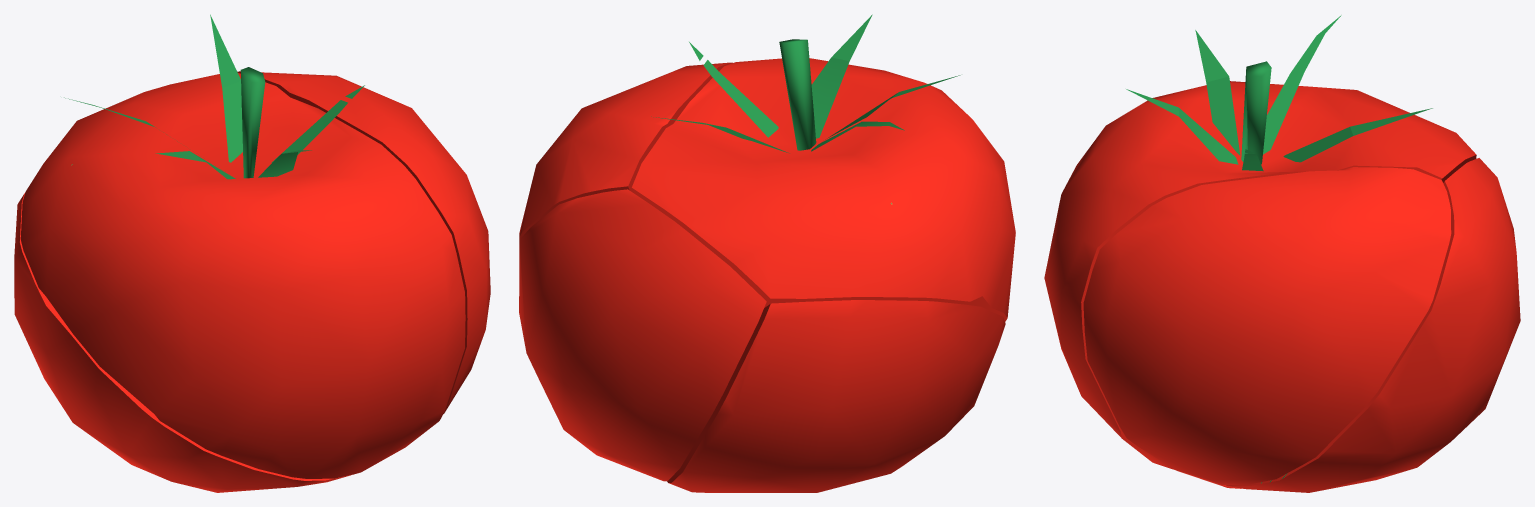
The model's file is testExplode.fbx.
3 renders of one model, left to right at view 1: azimuth 30°, elevation 25°; view 2: azimuth 150°, elevation 25°; view 3: azimuth 270°, elevation 25°, orthographic. The views are drawn at different scales.
Parts seen in each view (by area): view 1: tomato_whole_cell.002, tomato_whole_cell.003, tomato_whole_cell.001, tomato_whole_cell.005, tomato_whole_cell.006; view 2: tomato_whole_cell.002, tomato_whole_cell, tomato_whole_cell.003, tomato_whole_cell.001, tomato_whole_cell.006; view 3: tomato_whole_cell.001, tomato_whole_cell.002, tomato_whole_cell, tomato_whole_cell.005.
Part boxes in pixels (x1,y1,x2,y2): tomato_whole_cell.002: (20,67,465,478); tomato_whole_cell.003: (14,193,350,492); tomato_whole_cell.001: (237,71,490,413); tomato_whole_cell.005: (210,14,242,162); tomato_whole_cell.006: (271,100,347,162); tomato_whole_cell.002: (632,14,1015,321); tomato_whole_cell: (519,189,766,481); tomato_whole_cell.003: (667,300,1005,492); tomato_whole_cell.001: (519,62,732,243); tomato_whole_cell.006: (703,60,778,137); tomato_whole_cell.001: (1083,167,1451,485); tomato_whole_cell.002: (1044,15,1476,471); tomato_whole_cell: (1226,158,1520,492); tomato_whole_cell.005: (1283,108,1432,162).
Bounding box in the file's own units: 26.44 × 23.6 × 27.23.
